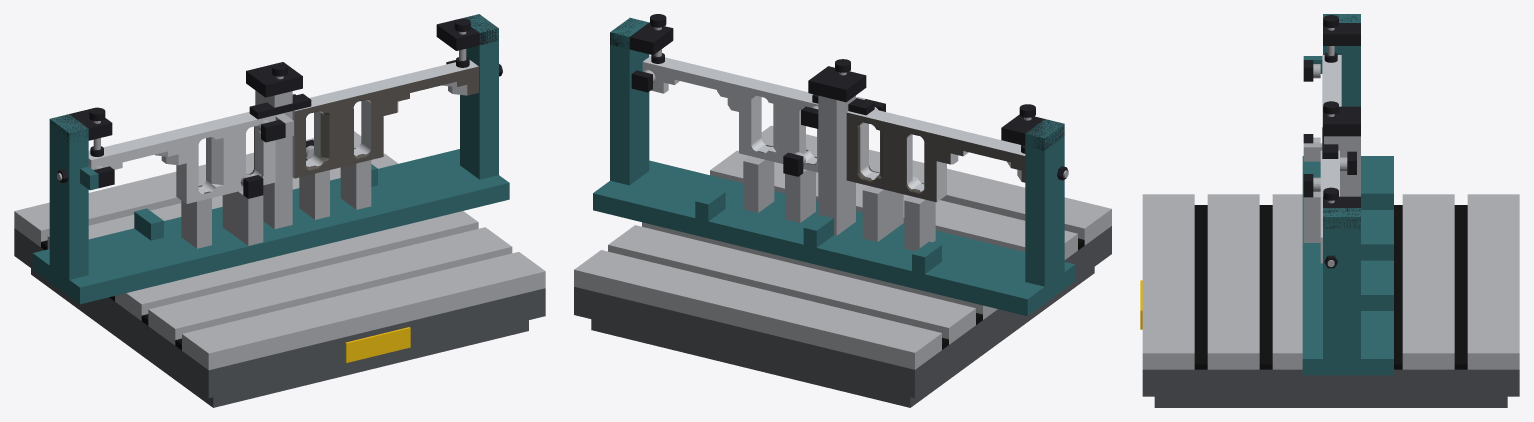
Rendered from pallet_part00_phase30_loaded.glb.
3 views of the same model, side by side, from view 1: azimuth 30°, elevation 25°; view 2: azimuth 150°, elevation 25°; view 3: azimuth 270°, elevation 25° (orthographic). The views are drawn at different scales.
Parts seen in each view (by area): view 1: pallet_body__pb_steel, fixture__fx_paint, pallet_body__pb_steel_dark, fixture__fx_steel, part_1__part_machined, part_2__part_raw, fixture__fx_oxide, part_2__part_machined, pallet_body__pb_safety_yellow, top_clamp_2__fx_oxide; view 2: pallet_body__pb_steel, fixture__fx_paint, pallet_body__pb_steel_dark, fixture__fx_steel, part_2__part_machined, part_1__part_raw, fixture__fx_oxide, part_1__part_machined, top_clamp_2__fx_oxide; view 3: pallet_body__pb_steel, fixture__fx_paint, pallet_body__pb_steel_dark, pallet_body__pb_rubber, fixture__fx_oxide, fixture__fx_steel, part_1__part_machined, part_2__part_machined, top_clamp_2__fx_oxide.
Boxes of the visible parts, left/top/right/bottom form: pallet_body__pb_steel: left=14, top=131, right=545, bottom=370; fixture__fx_paint: left=32, top=14, right=509, bottom=304; pallet_body__pb_steel_dark: left=14, top=228, right=545, bottom=407; fixture__fx_steel: left=57, top=66, right=502, bottom=248; part_1__part_machined: left=88, top=111, right=275, bottom=203; part_2__part_raw: left=294, top=66, right=478, bottom=178; fixture__fx_oxide: left=50, top=14, right=502, bottom=198; part_2__part_machined: left=292, top=60, right=478, bottom=178; pallet_body__pb_safety_yellow: left=345, top=327, right=410, bottom=362; top_clamp_2__fx_oxide: left=249, top=63, right=311, bottom=119; pallet_body__pb_steel: left=574, top=125, right=1111, bottom=369; fixture__fx_paint: left=593, top=17, right=1075, bottom=316; pallet_body__pb_steel_dark: left=574, top=226, right=1111, bottom=407; fixture__fx_steel: left=644, top=70, right=1068, bottom=251; part_2__part_machined: left=642, top=56, right=818, bottom=172; part_1__part_raw: left=846, top=112, right=1025, bottom=202; fixture__fx_oxide: left=610, top=18, right=1068, bottom=180; part_1__part_machined: left=847, top=109, right=1025, bottom=201; top_clamp_2__fx_oxide: left=812, top=59, right=874, bottom=115; pallet_body__pb_steel: left=1142, top=194, right=1519, bottom=369; fixture__fx_paint: left=1302, top=14, right=1393, bottom=375; pallet_body__pb_steel_dark: left=1142, top=369, right=1519, bottom=407; pallet_body__pb_rubber: left=1194, top=205, right=1467, bottom=369; fixture__fx_oxide: left=1303, top=14, right=1360, bottom=268; fixture__fx_steel: left=1303, top=64, right=1360, bottom=266; part_1__part_machined: left=1322, top=55, right=1341, bottom=127; part_2__part_machined: left=1320, top=150, right=1339, bottom=263; top_clamp_2__fx_oxide: left=1322, top=101, right=1338, bottom=158.
Size of the model in its own units: 0.8272 by 0.4221 by 0.634.
